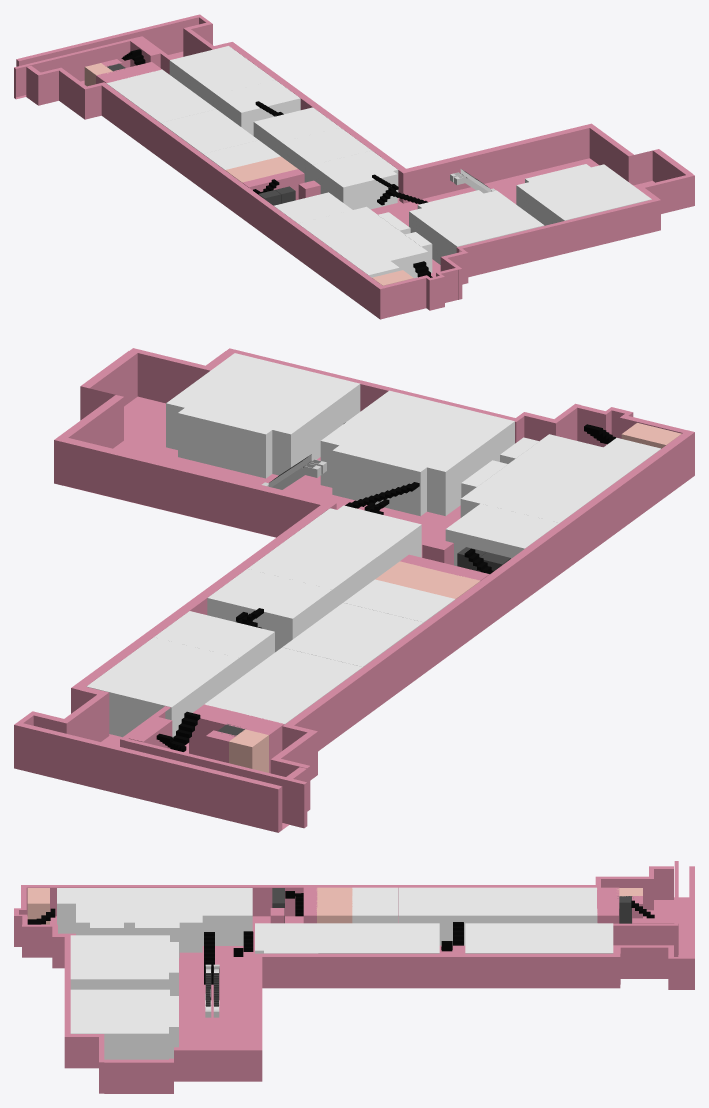
The picture shows the model from 3 angles, top to bottom: view 1: azimuth 30°, elevation 25°; view 2: azimuth 150°, elevation 25°; view 3: azimuth 270°, elevation 25°; orthographic projection. The views are drawn at different scales.
Parts seen in each view (by area): view 1: object, 10203, 10202, 10201, 10215, 10212, 10214, 10213, 10210, 10209, 10211, 10204 (+6 smaller); view 2: object, 10201, 10202, 10203, 10213, 10210, 10214, 10215, 10204, 10212, 10209, 10211 (+10 smaller); view 3: object, 10203, 10201, 10202, 10204, 10209, 10207, 10214, 10215, 10208, 10213, 10205 (+11 smaller).
Part boxes in pixels (bbox=[...]): object: bbox=[14, 14, 694, 319]; 10203: bbox=[298, 206, 432, 278]; 10202: bbox=[409, 190, 544, 264]; 10201: bbox=[516, 164, 651, 225]; 10215: bbox=[312, 150, 398, 209]; 10212: bbox=[216, 80, 300, 135]; 10214: bbox=[281, 127, 371, 182]; 10213: bbox=[253, 107, 339, 156]; 10210: bbox=[169, 46, 252, 91]; 10209: bbox=[106, 69, 193, 105]; 10211: bbox=[192, 63, 274, 108]; 10204: bbox=[274, 192, 352, 223]; object: bbox=[14, 348, 694, 832]; 10201: bbox=[166, 353, 360, 478]; 10202: bbox=[320, 390, 514, 516]; 10203: bbox=[460, 434, 660, 522]; 10213: bbox=[207, 569, 332, 652]; 10210: bbox=[86, 661, 206, 737]; 10214: bbox=[247, 536, 376, 609]; 10215: bbox=[292, 505, 421, 577]; 10204: bbox=[445, 503, 559, 565]; 10212: bbox=[154, 611, 274, 678]; 10209: bbox=[204, 671, 329, 724]; 10211: bbox=[122, 637, 238, 703]; object: bbox=[14, 861, 694, 1093]; 10203: bbox=[57, 888, 202, 957]; 10201: bbox=[70, 989, 178, 1059]; 10202: bbox=[70, 935, 178, 995]; 10204: bbox=[202, 888, 252, 945]; 10209: bbox=[532, 887, 597, 923]; 10207: bbox=[437, 887, 485, 945]; 10214: bbox=[318, 923, 382, 953]; 10215: bbox=[255, 923, 318, 953]; 10208: bbox=[485, 887, 533, 923]; 10213: bbox=[382, 923, 439, 953]; 10205: bbox=[352, 887, 397, 923].
Bounding box in the file's own units: 2.36 × 0.2205 × 3.37.
